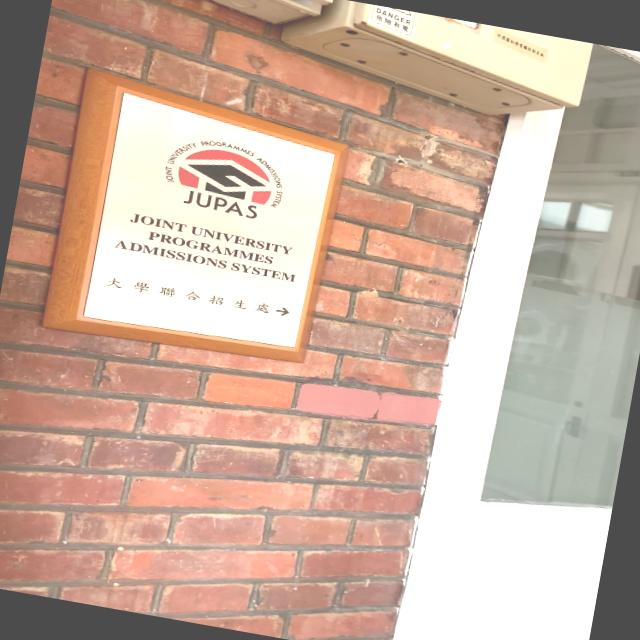jupasOffice: (29, 54, 368, 371)
